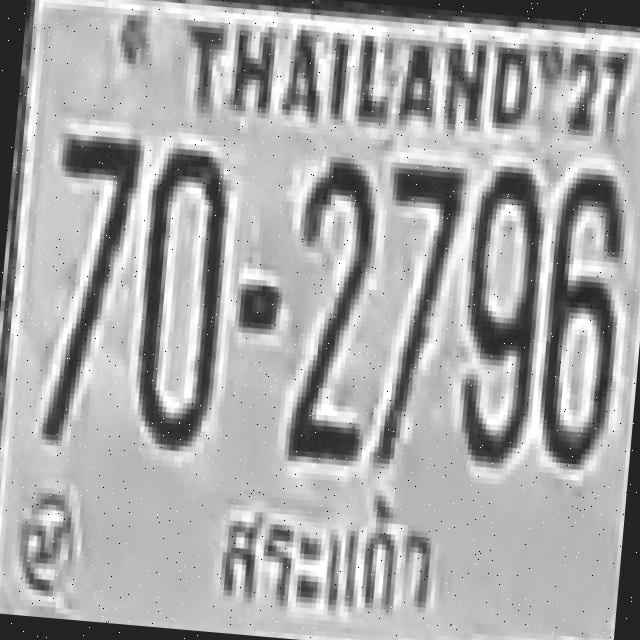0: (126, 143, 233, 450), (460, 158, 545, 352)
2: (283, 152, 379, 420), (282, 214, 376, 461)
6: (531, 165, 626, 466)
7: (43, 127, 141, 376), (374, 156, 464, 361), (376, 156, 464, 334)
9: (450, 172, 544, 462)
SaKaeo: (206, 482, 456, 630)
